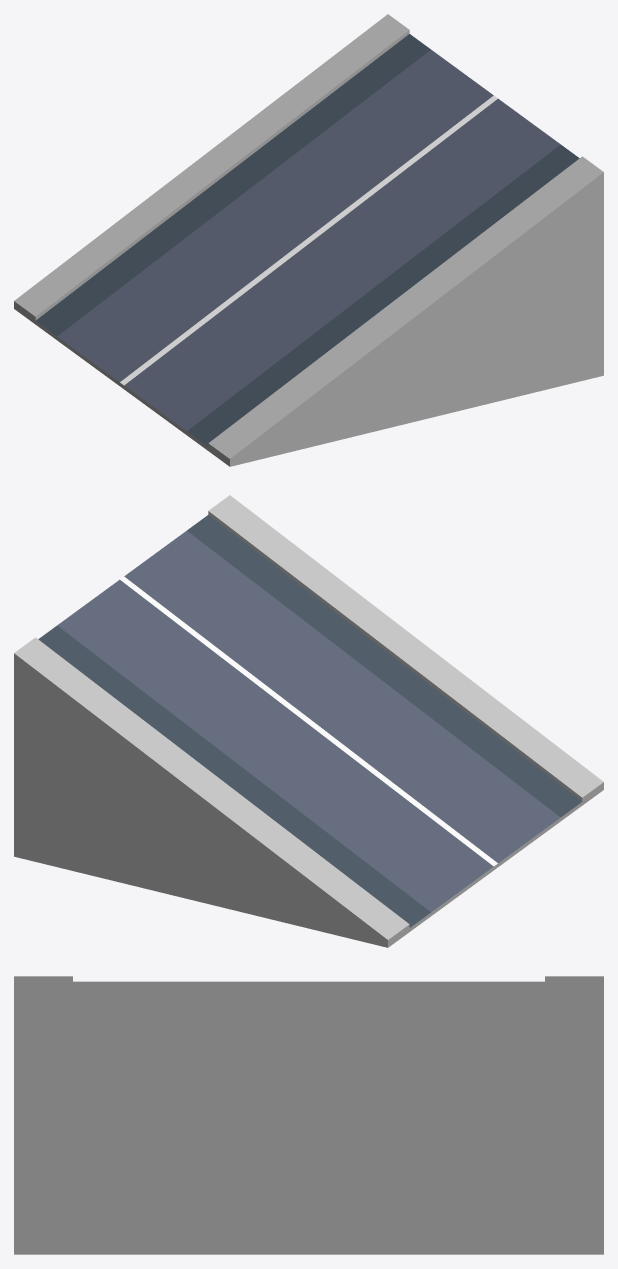
Rendered from SM_Road_Slant_High.fbx.
3 views of the same model, one above another, from view 1: azimuth 30°, elevation 25°; view 2: azimuth 150°, elevation 25°; view 3: azimuth 270°, elevation 25° (orthographic). The views are drawn at different scales.
Visible parts, largest first — view 1: SM_Road_Slant_High; view 2: SM_Road_Slant_High; view 3: SM_Road_Slant_High.
Part boxes in pixels (x1,y1,x2,y2): SM_Road_Slant_High: (14, 14, 603, 466); SM_Road_Slant_High: (14, 495, 603, 947); SM_Road_Slant_High: (14, 976, 603, 1254).
Bounding box in the file's own units: 1000 × 520 × 1000.
